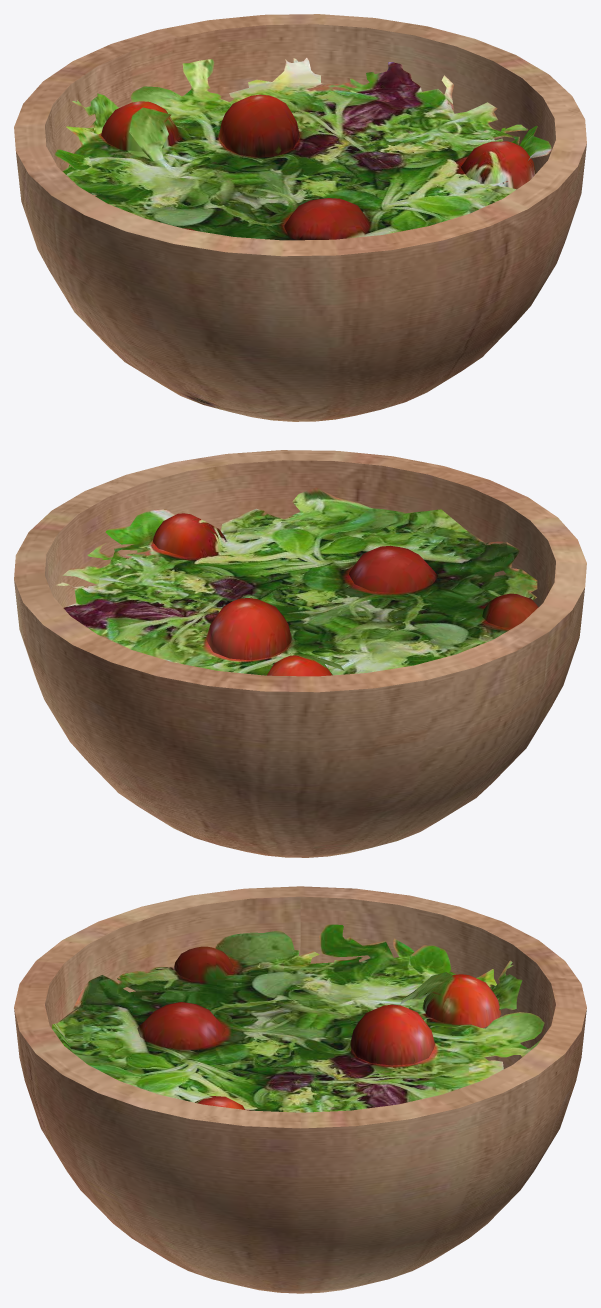
Rendered from BowlWithSalad.fbx.
3 renders of one model, top to bottom at view 1: azimuth 30°, elevation 25°; view 2: azimuth 150°, elevation 25°; view 3: azimuth 270°, elevation 25°, orthographic.
Visible parts, largest first — view 1: BowlWithSalad; view 2: BowlWithSalad; view 3: BowlWithSalad.
Boxes of the visible parts, box(x1,y1,x2,y2) form: BowlWithSalad: box(14, 14, 586, 421); BowlWithSalad: box(14, 450, 586, 857); BowlWithSalad: box(14, 886, 586, 1293).
Bounding box in the file's own units: 35.55 × 16.64 × 35.55.
1 material, 1 textured.
